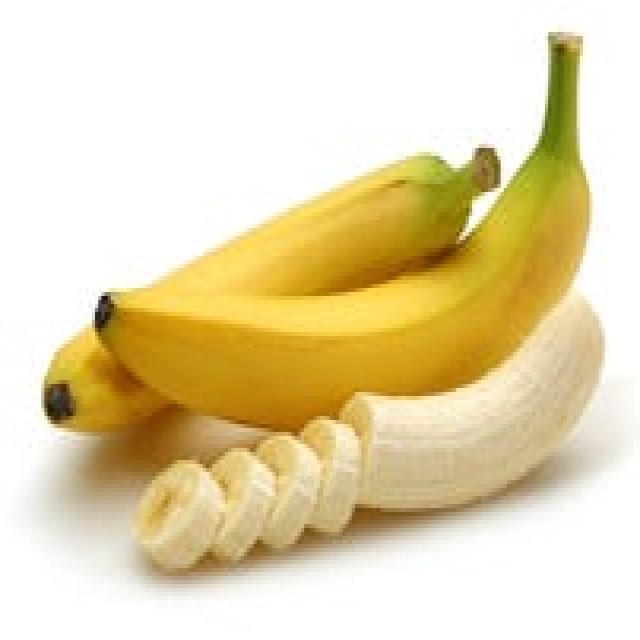Banana: (29, 19, 630, 559)
